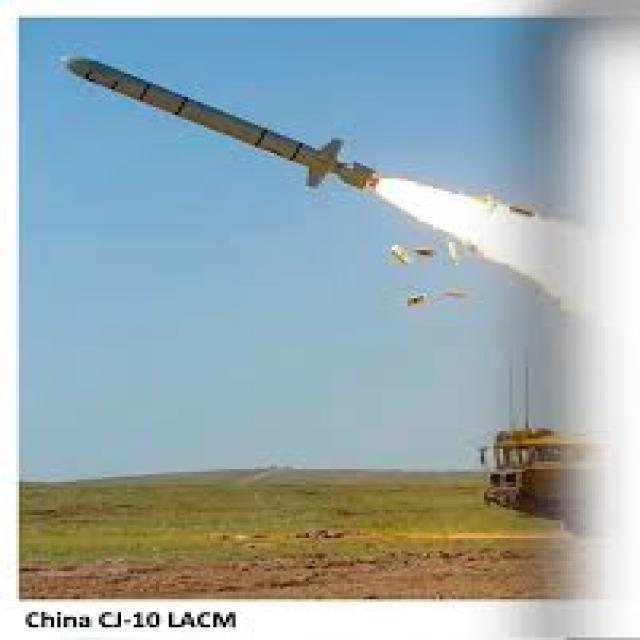missile: (60, 50, 386, 194)
